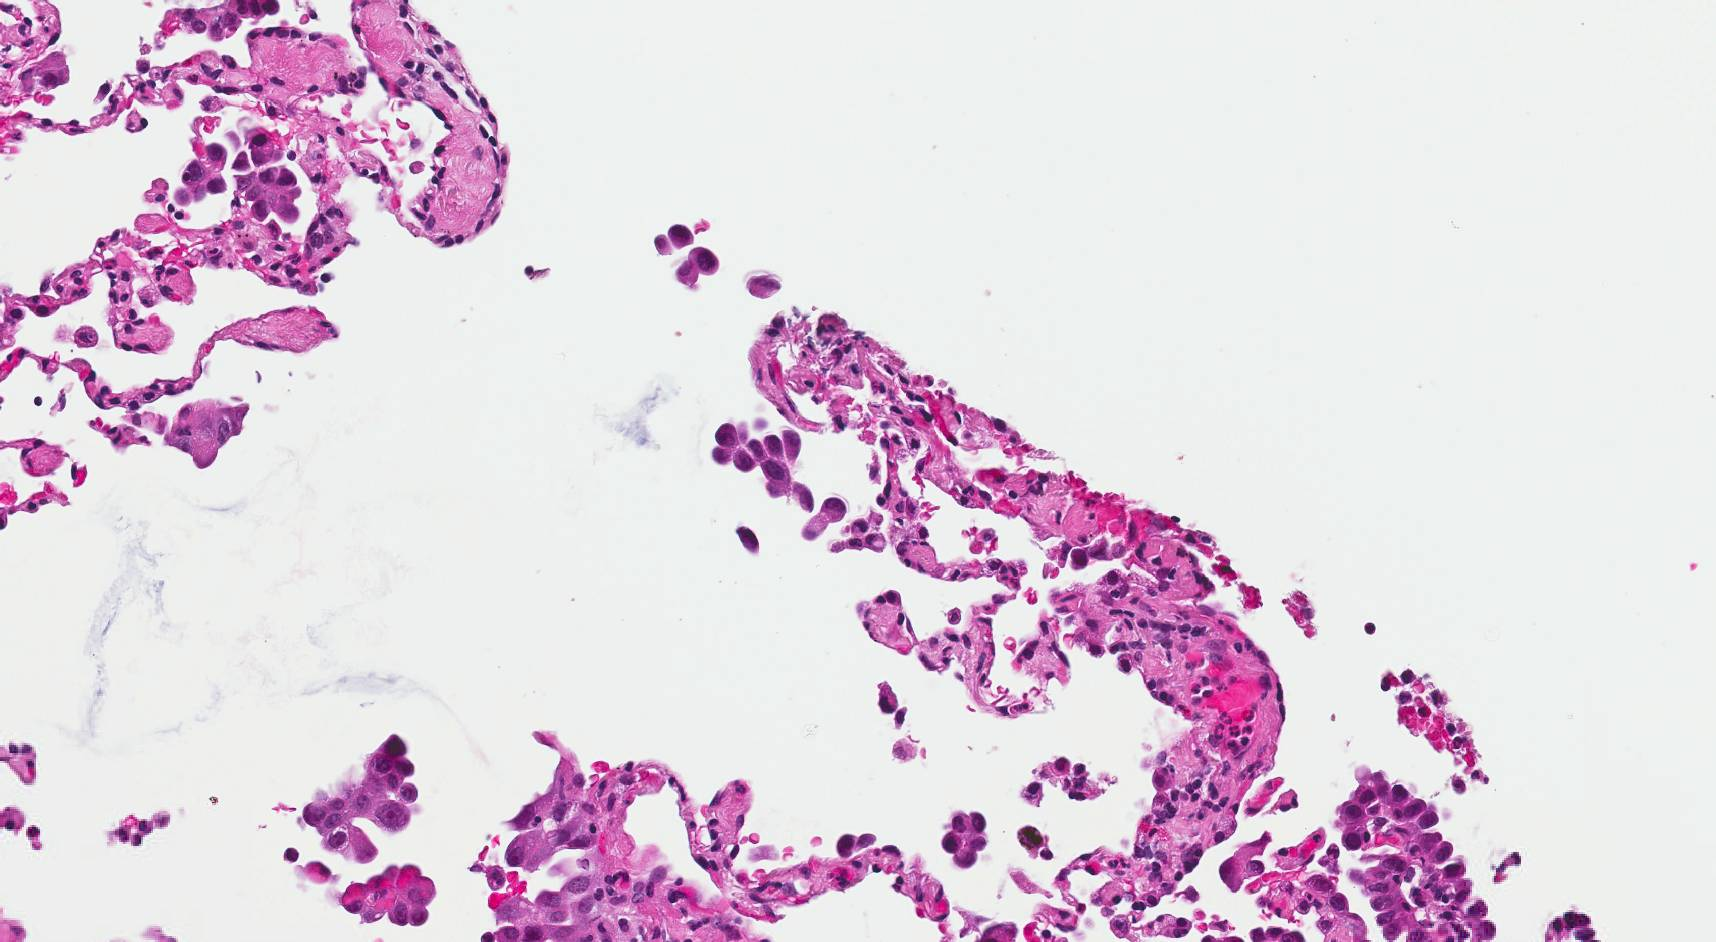stas: (295, 734, 420, 863), (710, 416, 816, 515), (230, 136, 306, 227), (339, 863, 438, 928), (165, 401, 252, 472), (160, 1, 285, 44), (172, 140, 230, 206), (940, 805, 994, 868), (1219, 831, 1272, 892), (831, 513, 887, 554), (675, 248, 721, 288), (803, 500, 846, 540), (650, 221, 694, 259), (833, 827, 878, 859), (744, 273, 786, 296)
